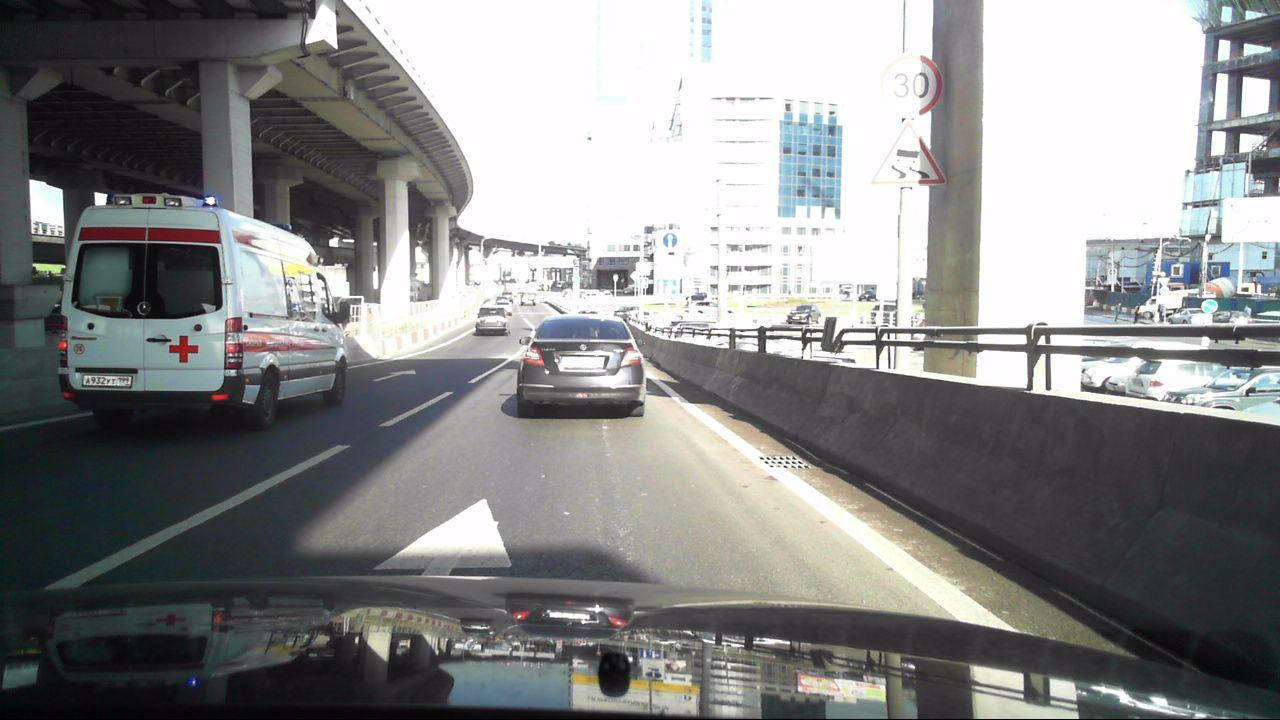1_15: (872, 123, 945, 189)
3_24: (879, 51, 945, 117)
4_1_1: (663, 232, 678, 250)
